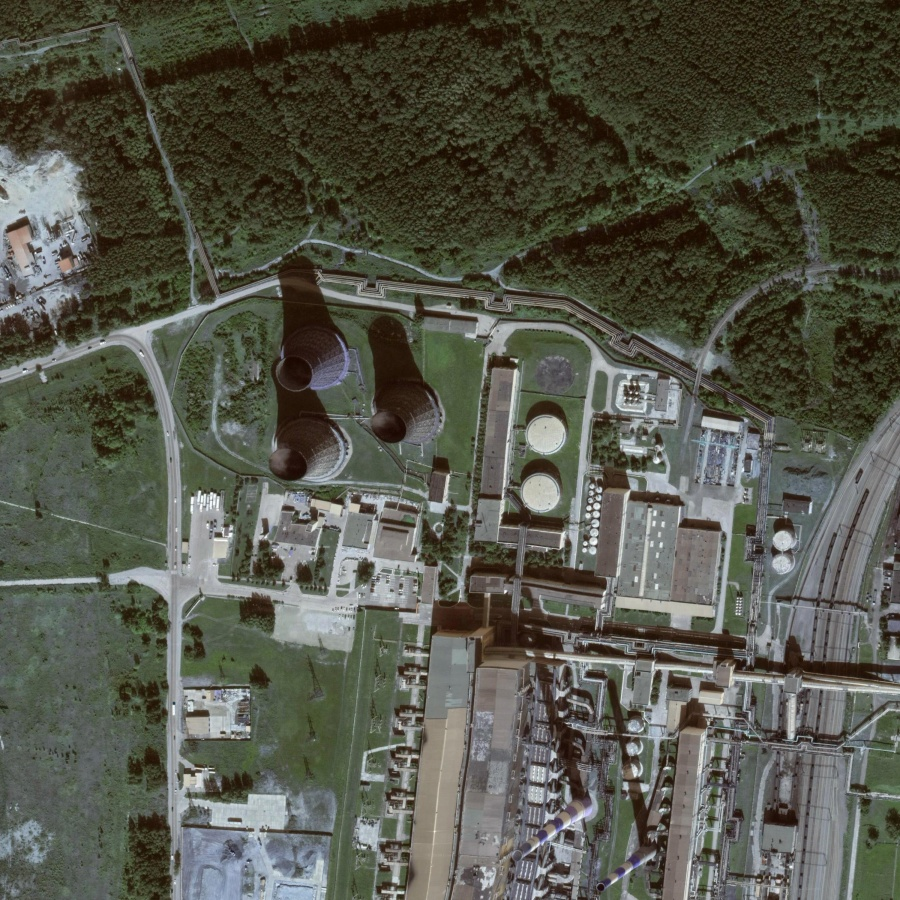PowerPlant: (256, 244, 588, 558)
